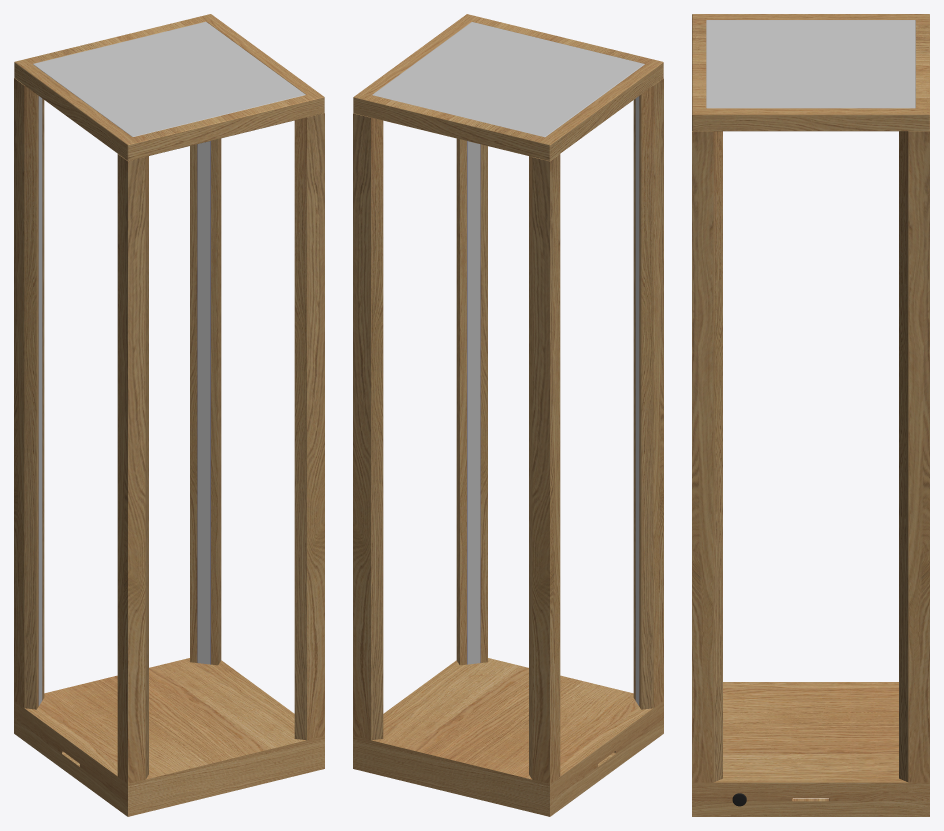
3 views of the same model, side by side, from view 1: azimuth 30°, elevation 25°; view 2: azimuth 150°, elevation 25°; view 3: azimuth 270°, elevation 25° (orthographic). The views are drawn at different scales.
Parts seen in each view (by area): view 1: PROTO.006_Cube.026, Cube.003_Cube.005, Cube.001_Cube.003, Cube_Cube.002, Cube.014_Cube.054, Cube.013_Cube.053; view 2: PROTO.006_Cube.026, Cube.003_Cube.005, Cube.001_Cube.003, Cube_Cube.002, Cube.014_Cube.054, Cube.013_Cube.053; view 3: PROTO.006_Cube.026, Cube.003_Cube.005, Cube.001_Cube.003, Cube_Cube.002.
Part boxes in pixels (x1,y1,x2,y2): PROTO.006_Cube.026: (14, 78, 324, 783); Cube.003_Cube.005: (14, 658, 324, 816); Cube.001_Cube.003: (33, 21, 305, 136); Cube_Cube.002: (14, 14, 324, 160); Cube.014_Cube.054: (39, 96, 209, 705); Cube.013_Cube.053: (38, 96, 210, 705); PROTO.006_Cube.026: (353, 78, 663, 783); Cube.003_Cube.005: (353, 658, 663, 816); Cube.001_Cube.003: (372, 22, 644, 137); Cube_Cube.002: (353, 14, 663, 160); Cube.014_Cube.054: (468, 96, 638, 705); Cube.013_Cube.053: (467, 96, 639, 705); PROTO.006_Cube.026: (692, 131, 929, 782); Cube.003_Cube.005: (692, 682, 929, 816); Cube.001_Cube.003: (706, 20, 915, 108); Cube_Cube.002: (692, 14, 929, 131).
Bounding box in the file's own units: 25.12 × 81.5 × 25.
